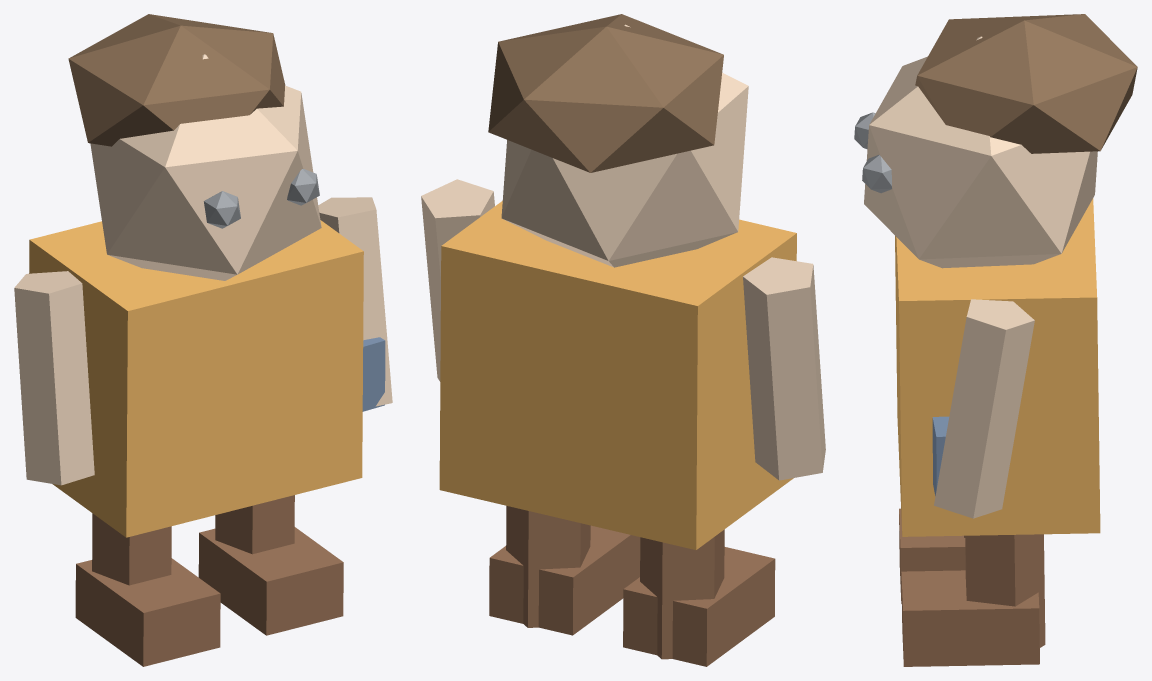
Rendered from npcpose_villager_idle_01.glb.
The picture shows the model from 3 angles, left to right: view 1: azimuth 30°, elevation 25°; view 2: azimuth 150°, elevation 25°; view 3: azimuth 270°, elevation 25°; orthographic projection. The views are drawn at different scales.
Visible parts, largest first — view 1: npcpose; view 2: npcpose; view 3: npcpose.
Boxes of the visible parts, left/top/right/bottom form: npcpose: left=14, top=14, right=392, bottom=666; npcpose: left=421, top=14, right=825, bottom=666; npcpose: left=854, top=14, right=1137, bottom=666.
Bounding box in the file's own units: 0.6985 × 1.06 × 0.4576.
